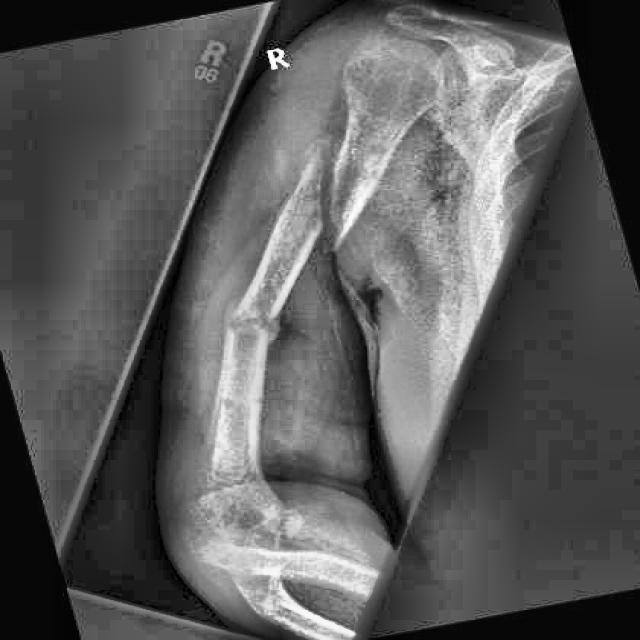humerus: (189, 276, 311, 374)
